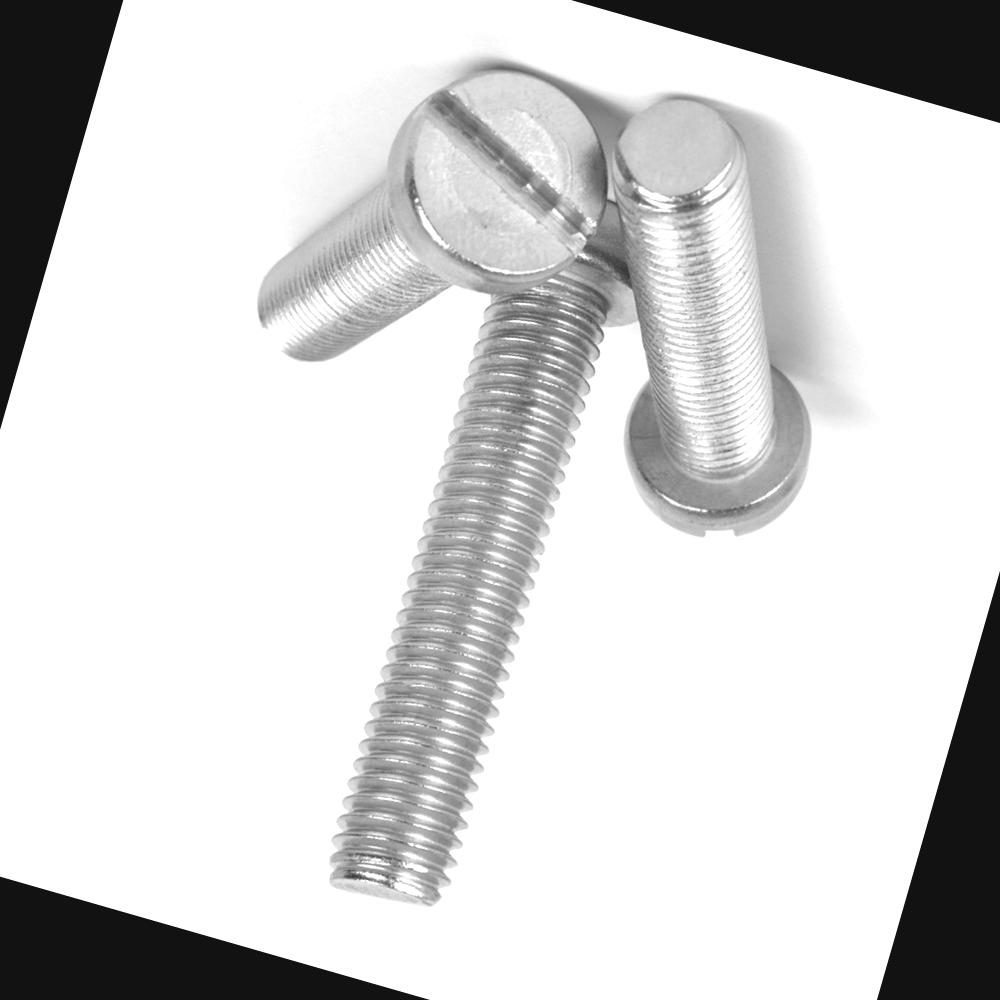screw: (366, 32, 636, 318)
